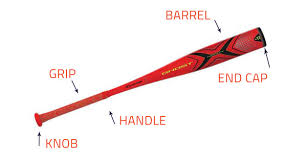baseball bat: (34, 26, 266, 126)
